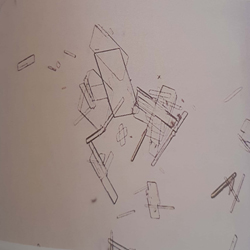Crystal: (135, 75, 190, 174), (83, 29, 138, 124), (68, 139, 122, 204), (208, 169, 248, 220), (140, 178, 180, 224), (13, 48, 38, 73), (88, 118, 110, 145), (235, 114, 250, 153), (112, 123, 133, 149), (114, 205, 136, 224), (58, 45, 81, 62), (47, 59, 63, 81)
